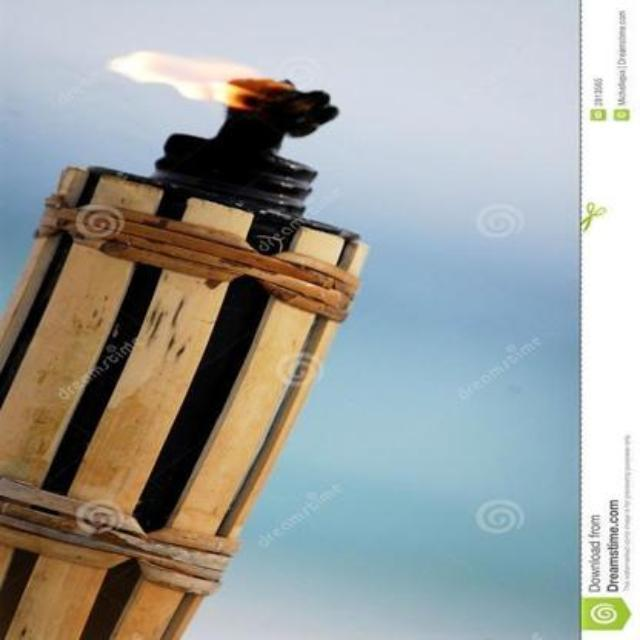Fire: (106, 47, 274, 119)
